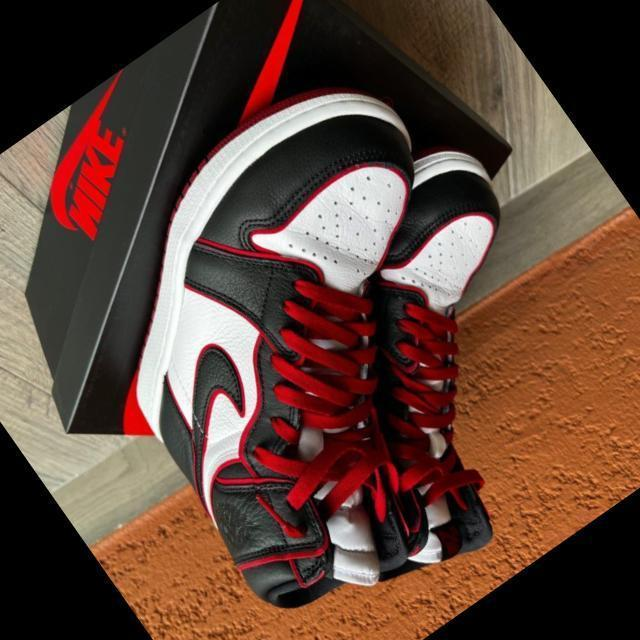nike original jordan 1: (25, 41, 618, 640), (201, 122, 640, 596)
